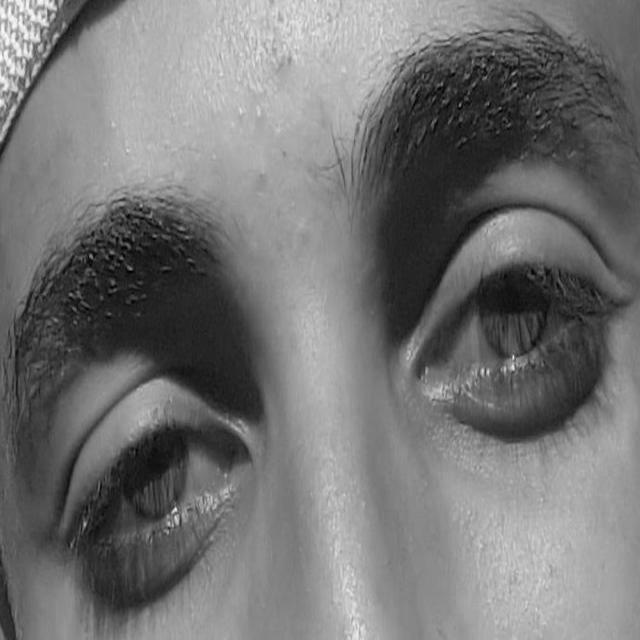real: (42, 130, 604, 608)
